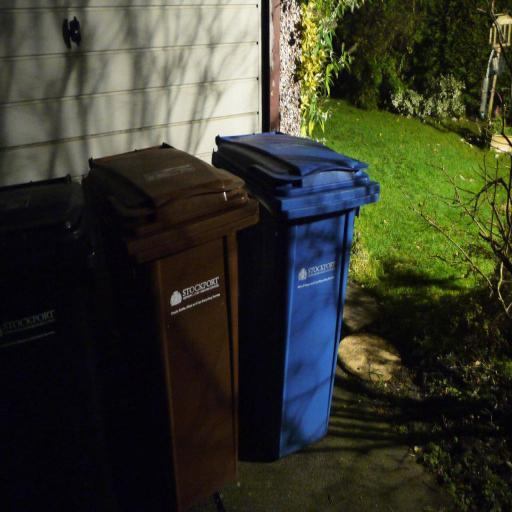trash-can: (85, 128, 274, 498), (218, 98, 387, 473)
